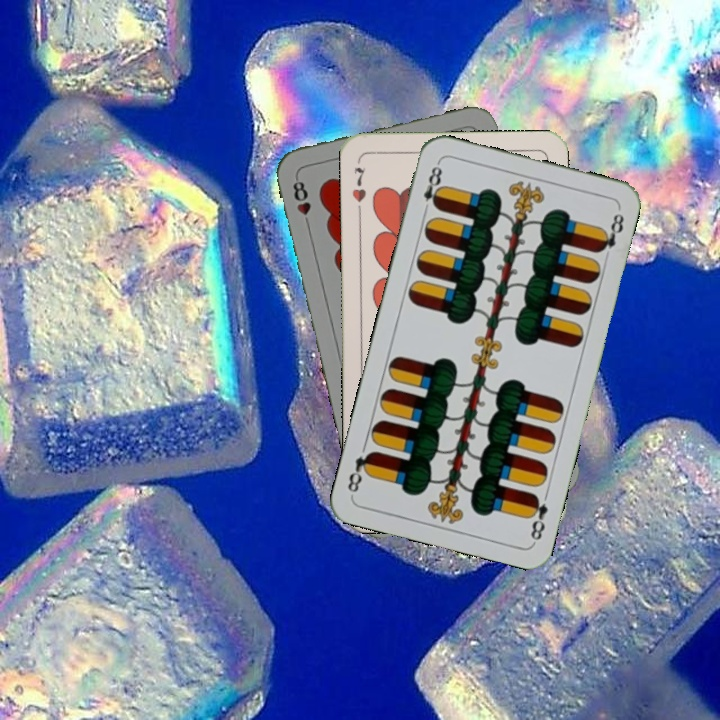E8: (524, 489, 551, 545), (419, 159, 445, 217)
H7: (348, 163, 369, 216)
H8: (289, 173, 314, 231)
